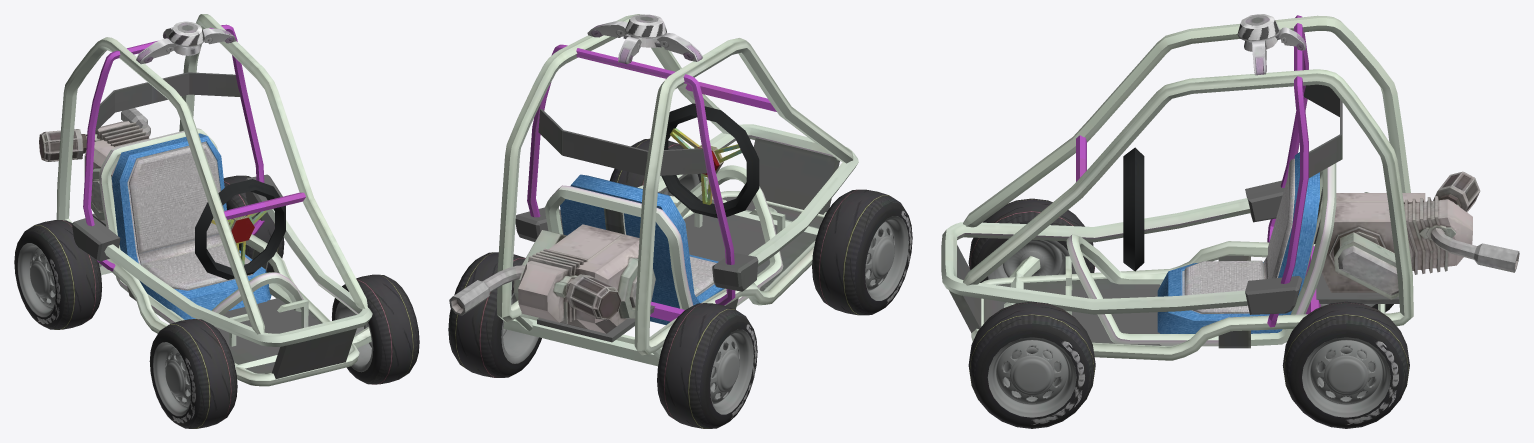
File: 06-Dingo-Stock-White.glb
3 views of the same model, side by side, from view 1: azimuth 30°, elevation 25°; view 2: azimuth 150°, elevation 25°; view 3: azimuth 270°, elevation 25° (orthographic). The views are drawn at different scales.
Visible parts, largest first — view 1: Dingo.001, Tire (×4), Regular, Aero (×3), Engine_004.001, Torus, WEAPON MOUNT-Default_OBJ_3, INT_WHEEL_005, arm1-Default_OBJ_3, arm1.1-Default_OBJ_3; view 2: Dingo.001, Tire (×4), Engine_004.001, Aero (×3), Regular, Torus, WEAPON MOUNT-Default_OBJ_3, INT_WHEEL_005, arm1-Default_OBJ_3, arm1.1-Default_OBJ_3, arm1.3-Default_OBJ_3; view 3: Dingo.001, Tire (×3), Engine_004.001, Aero (×3), Regular, Torus, WEAPON MOUNT-Default_OBJ_3.
Boxes of the visible parts, x1,y1,x2,y2 form: Dingo.001: (56,14,372,386); Tire (×4): (14,175,419,428); Regular: (111,133,271,319); Aero (×3): (17,243,373,416); Engine_004.001: (39,108,150,220); Torus: (195,179,285,279); WEAPON MOUNT-Default_OBJ_3: (168,21,205,55); INT_WHEEL_005: (211,210,268,265); arm1-Default_OBJ_3: (136,38,177,64); arm1.1-Default_OBJ_3: (203,28,236,44); Dingo.001: (497,14,858,366); Tire (×4): (448,138,912,428); Engine_004.001: (449,224,655,333); Aero (×3): (501,216,908,414); Regular: (560,174,724,324); Torus: (661,103,759,218); WEAPON MOUNT-Default_OBJ_3: (623,14,667,47); INT_WHEEL_005: (670,128,741,204); arm1-Default_OBJ_3: (657,33,702,61); arm1.1-Default_OBJ_3: (587,21,627,37); arm1.3-Default_OBJ_3: (618,36,641,64); Dingo.001: (941,15,1413,360); Tire (×3): (968,198,1409,428); Engine_004.001: (1320,171,1519,299); Aero (×3): (987,239,1390,417); Regular: (1157,152,1319,333); Torus: (1123,147,1144,271); WEAPON MOUNT-Default_OBJ_3: (1237,14,1280,51).
Size of the model in its own units: 4.81 by 6.2 by 9.22.
8 materials, 8 textured.
